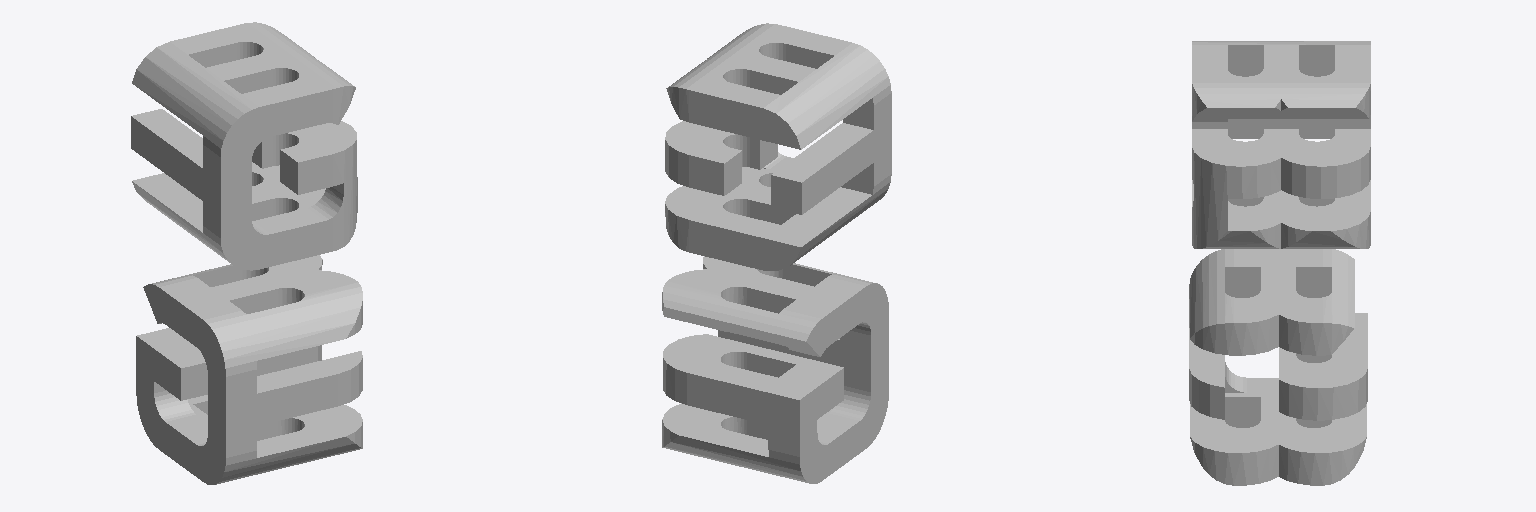
Rendered from geb.obj.
3 renders of one model, left to right at view 1: azimuth 30°, elevation 25°; view 2: azimuth 150°, elevation 25°; view 3: azimuth 270°, elevation 25°, orthographic.
Visible parts, largest first — view 1: EGB, GEB; view 2: EGB, GEB; view 3: GEB, EGB.
Part boxes in pixels (left/top/right/bottom): EGB: left=131, top=22, right=357, bottom=270; GEB: left=136, top=255, right=362, bottom=484; EGB: left=665, top=23, right=891, bottom=270; GEB: left=662, top=256, right=888, bottom=483; GEB: left=1189, top=249, right=1367, bottom=485; EGB: left=1192, top=41, right=1370, bottom=248.
Bounding box in the file's own units: 0.0832 × 0.1908 × 0.0824.